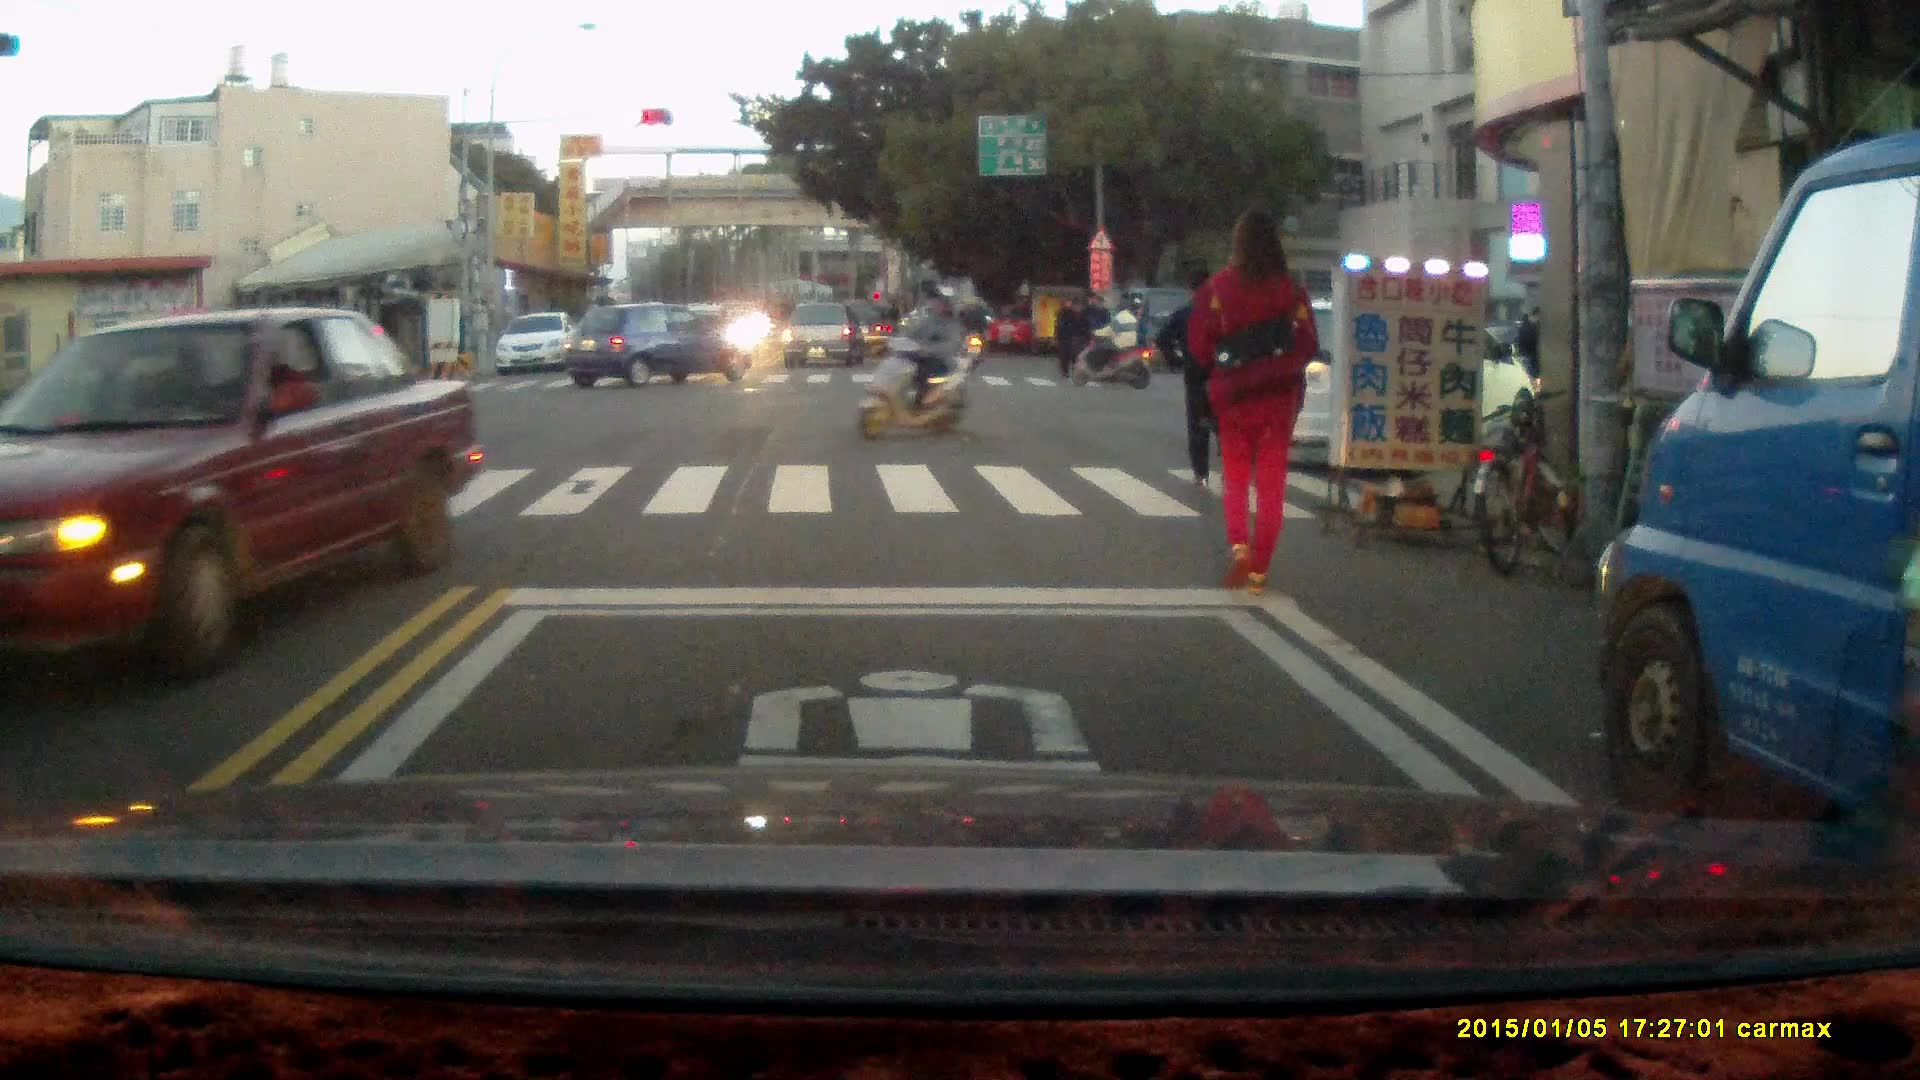pedestrian: (1184, 209, 1321, 594), (1162, 259, 1251, 494), (1515, 303, 1548, 401), (1050, 292, 1082, 383), (1076, 290, 1108, 381)
rider: (855, 286, 977, 441), (1070, 299, 1155, 389), (951, 292, 991, 372)
vehicle: (1598, 132, 1920, 875), (1, 308, 489, 707), (1233, 296, 1533, 459), (569, 305, 759, 391), (783, 300, 867, 375), (498, 313, 586, 377)
